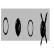correct: (15, 17, 21, 38)
not correct: (40, 10, 48, 47)
